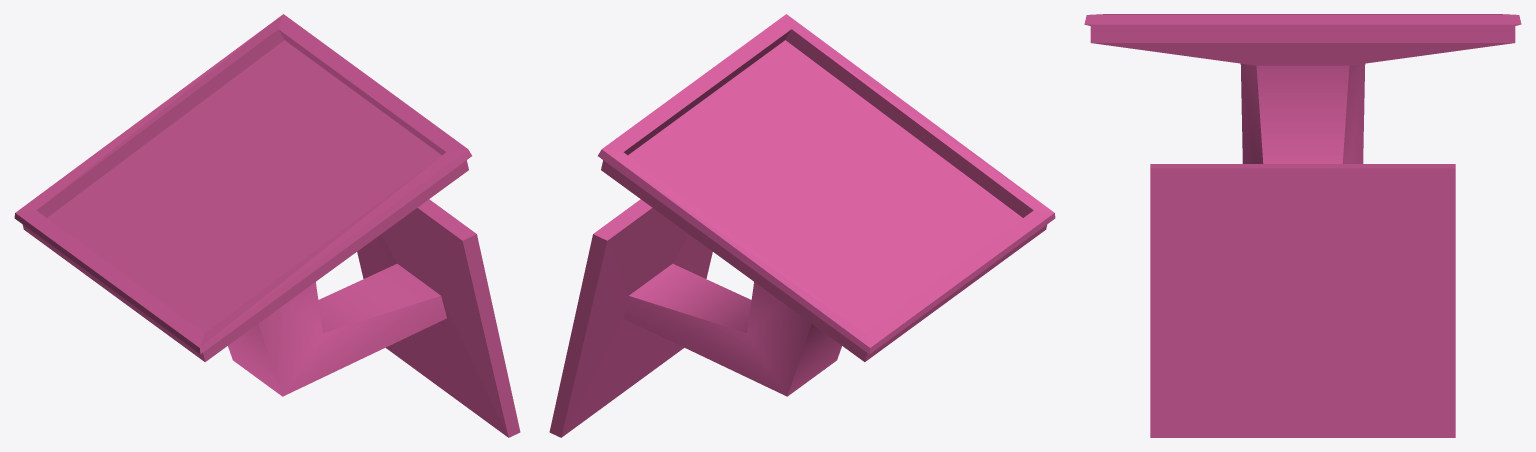
File: Mando de dron.glb
3 views of the same model, side by side, from view 1: azimuth 30°, elevation 25°; view 2: azimuth 150°, elevation 25°; view 3: azimuth 270°, elevation 25° (orthographic). The views are drawn at different scales.
Visible parts, largest first — view 1: Box001; view 2: Box001; view 3: Box001.
Part boxes in pixels (box(x1,y1,x2,y2)): Box001: box(14, 14, 520, 437); Box001: box(549, 14, 1055, 437); Box001: box(1084, 14, 1521, 437).
Bounding box in the file's own units: 0.406 × 0.3626 × 0.3773.
